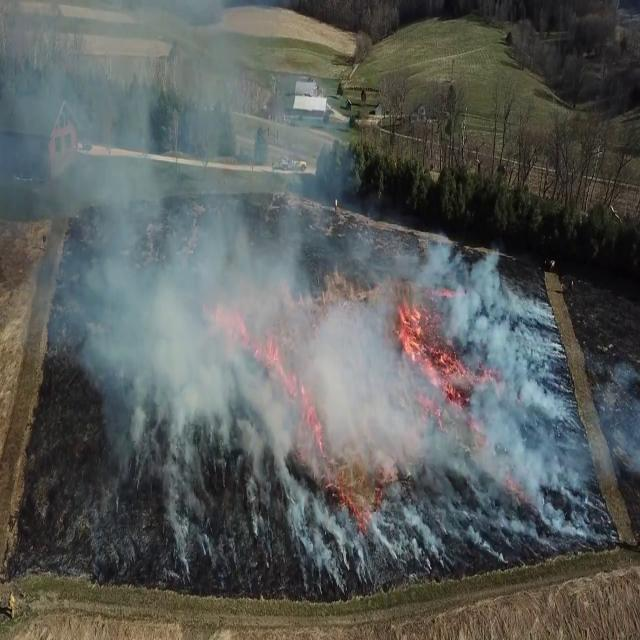Fire: (393, 296, 450, 391)
Smoke: (43, 13, 527, 563)
